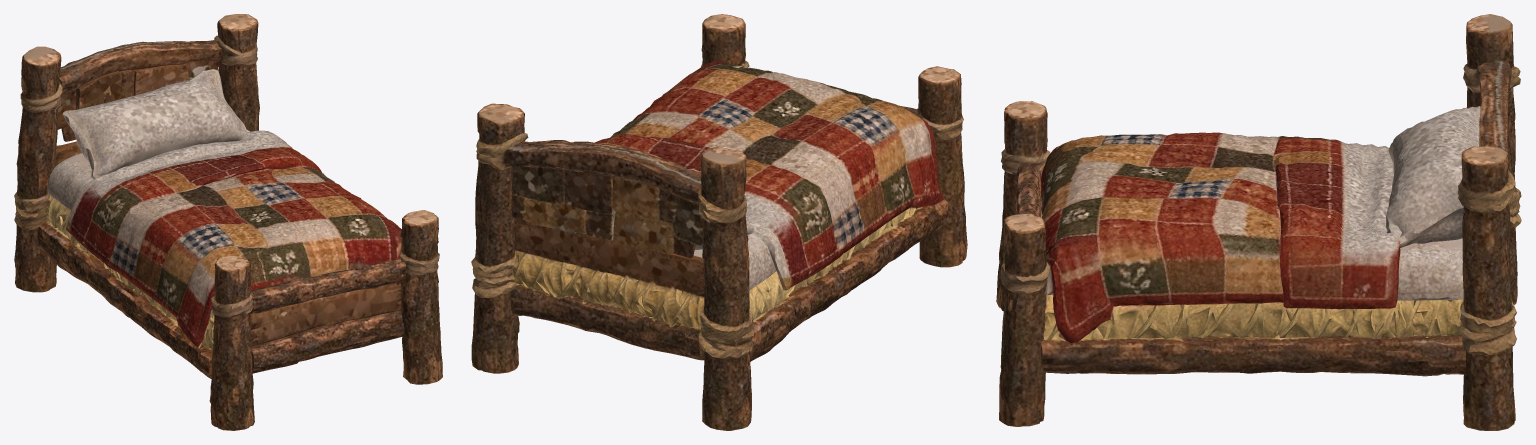
The model's file is bed_lite.glb.
3 renders of one model, left to right at view 1: azimuth 30°, elevation 25°; view 2: azimuth 150°, elevation 25°; view 3: azimuth 270°, elevation 25°, orthographic. The views are drawn at different scales.
Visible parts, largest first — view 1: geometry_0; view 2: geometry_0; view 3: geometry_0.
Part boxes in pixels (x1,y1,x2,y2): geometry_0: (14, 14, 442, 430); geometry_0: (471, 14, 967, 430); geometry_0: (996, 14, 1521, 430).
Size of the model in its own units: 1.23 by 1.13 by 1.9.
1 material, 1 textured.
